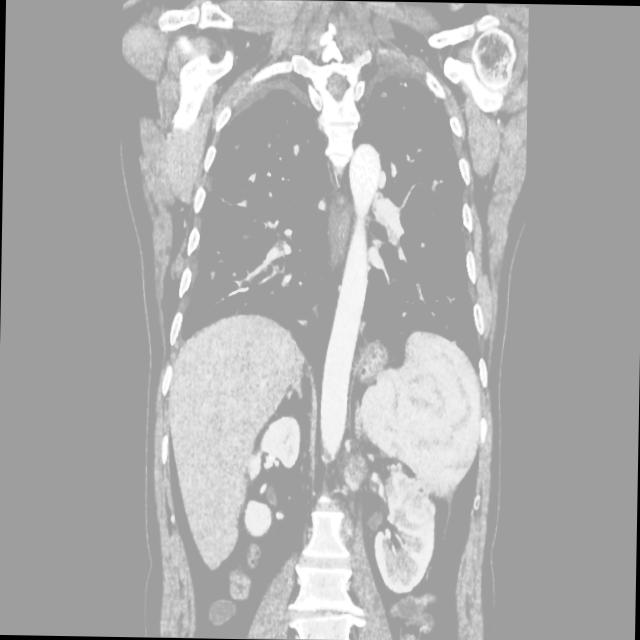TUMOR: (109, 350, 476, 590)
